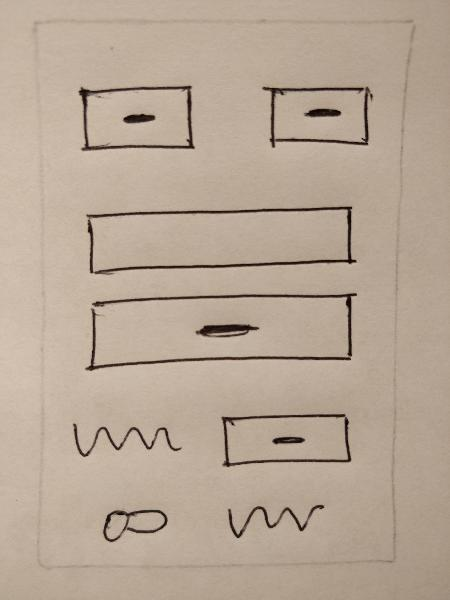button: (81, 289, 363, 376), (74, 77, 199, 161), (214, 407, 361, 477), (256, 76, 378, 156)
switch: (91, 500, 177, 553)
text: (67, 408, 183, 465), (214, 493, 332, 547)
text_input: (79, 200, 363, 274)
